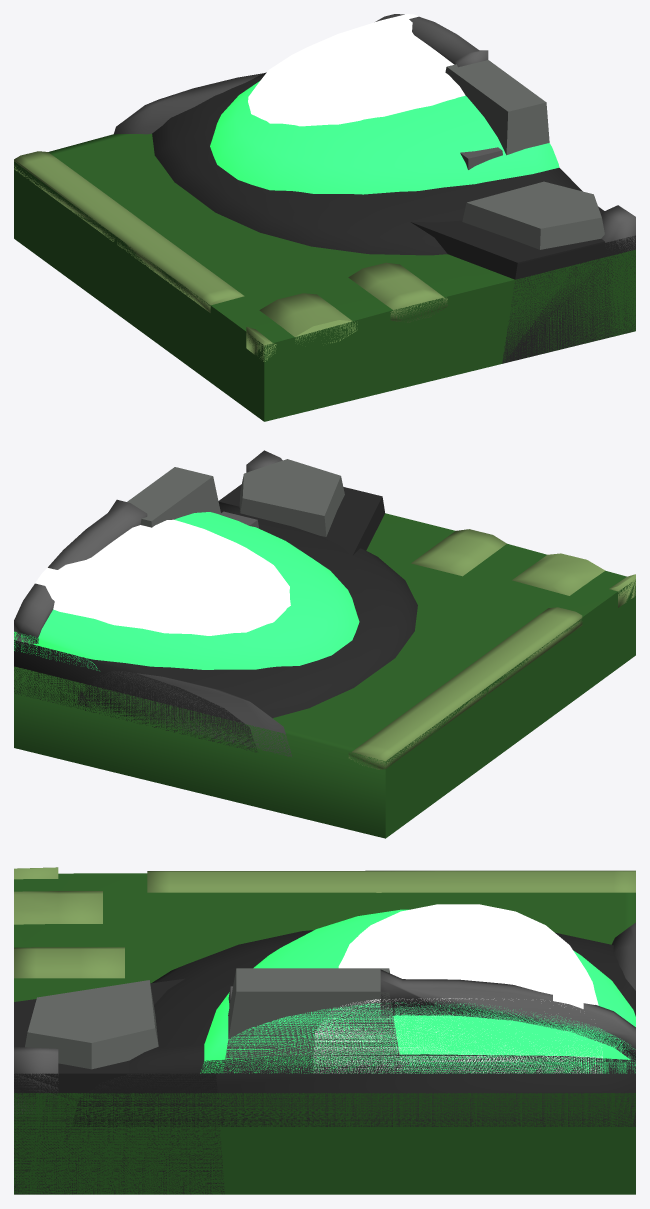
The model's file is newshj-161.glb.
3 views of the same model, one above another, from view 1: azimuth 30°, elevation 25°; view 2: azimuth 150°, elevation 25°; view 3: azimuth 270°, elevation 25° (orthographic). The views are drawn at different scales.
Visible parts, largest first — view 1: newshj-161; view 2: newshj-161; view 3: newshj-161.
Part boxes in pixels (x1,y1,x2,y2): newshj-161: [14, 14, 635, 421]; newshj-161: [14, 450, 635, 838]; newshj-161: [14, 867, 635, 1194].
Size of the model in its own units: 2 by 0.8899 by 2.33.
